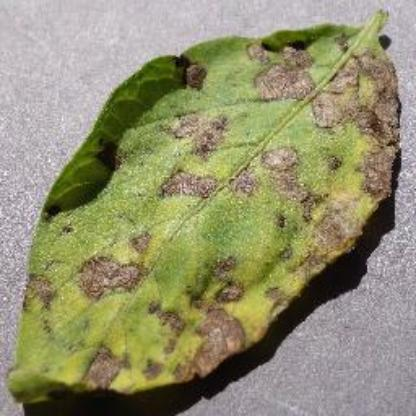Early-Blight: (14, 3, 404, 415)
